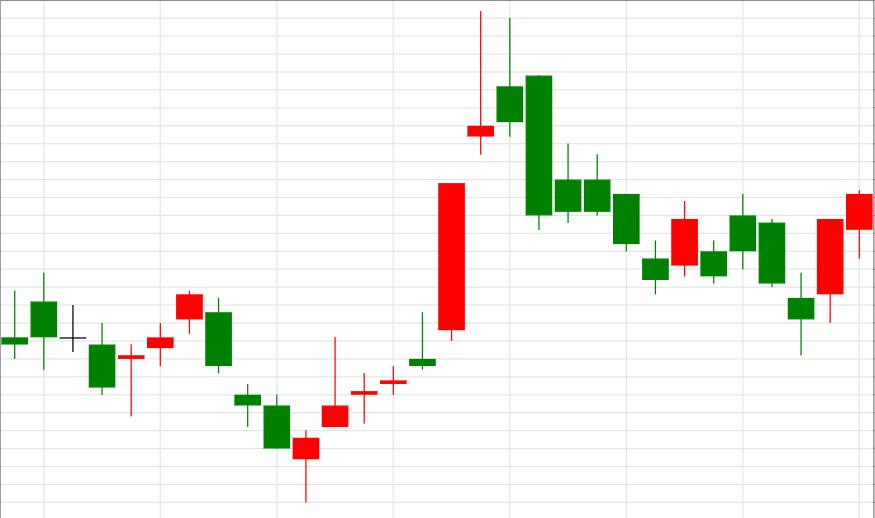shooting_star_fall: (292, 11, 522, 502)
